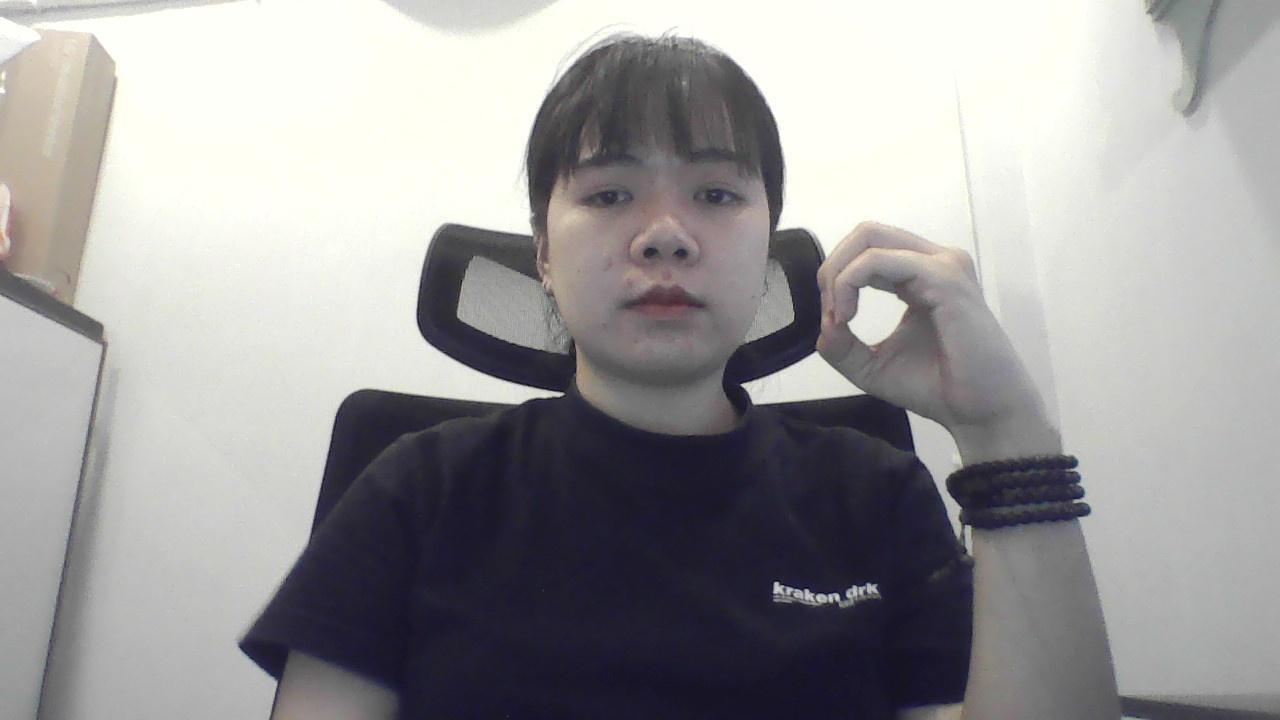O: (806, 197, 1054, 425)
